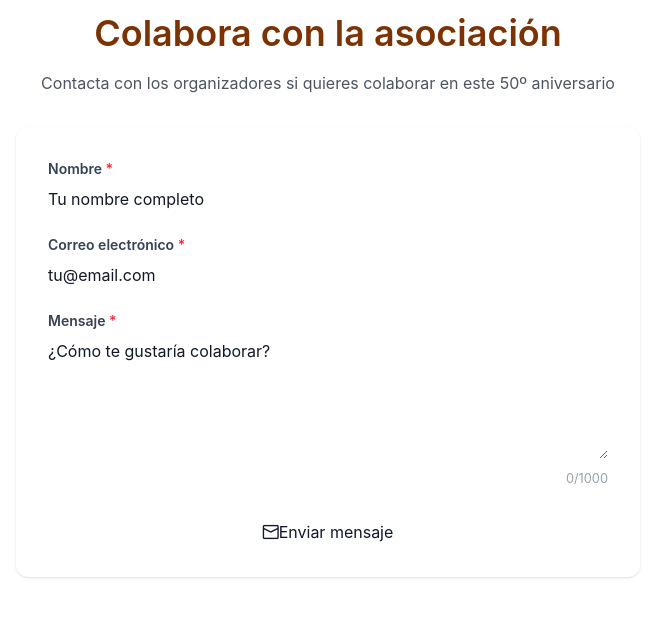
it: AnniversaryContactForm › should show validation error when message is empty
Type "Test User" into the field with id "contact-name".
click(328, 199); type("Test User")  # box [48,187,608,211]
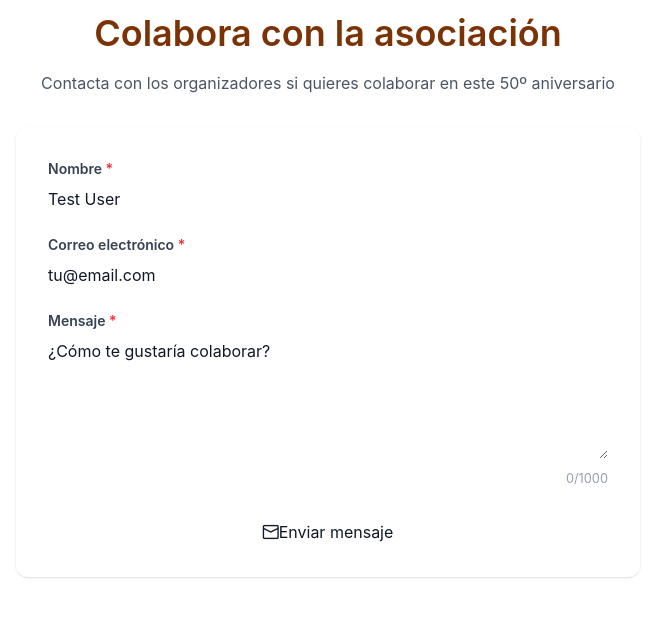
Type "test@example.com" into the field with id "contact-email".
click(328, 275); type("test@example.com")  # box [48,263,608,287]
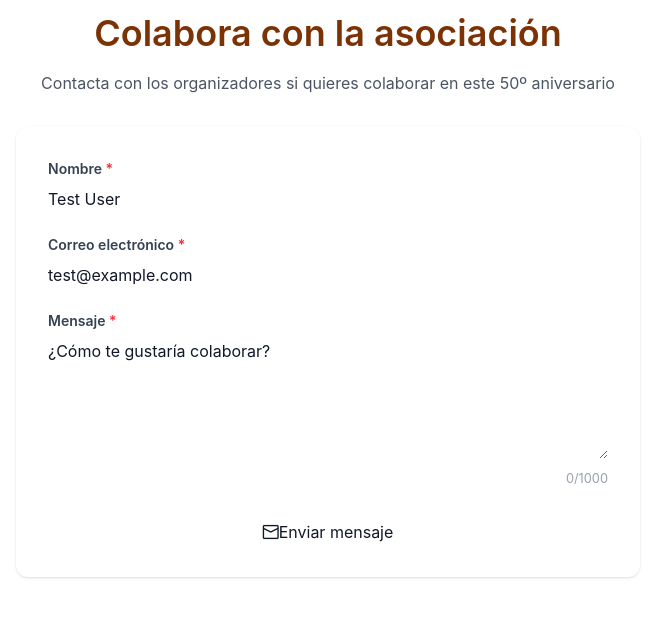
Submit the form
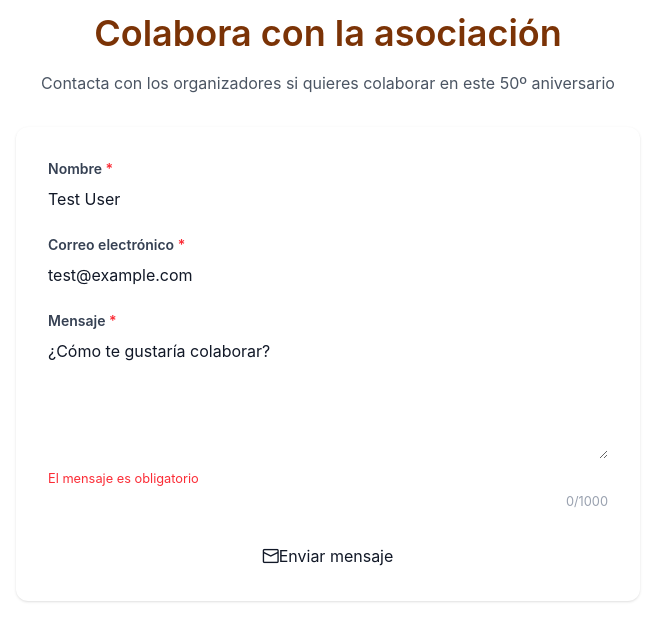
Check: the text "El mensaje es obligatorio" is shown, box [48,471,199,486]
